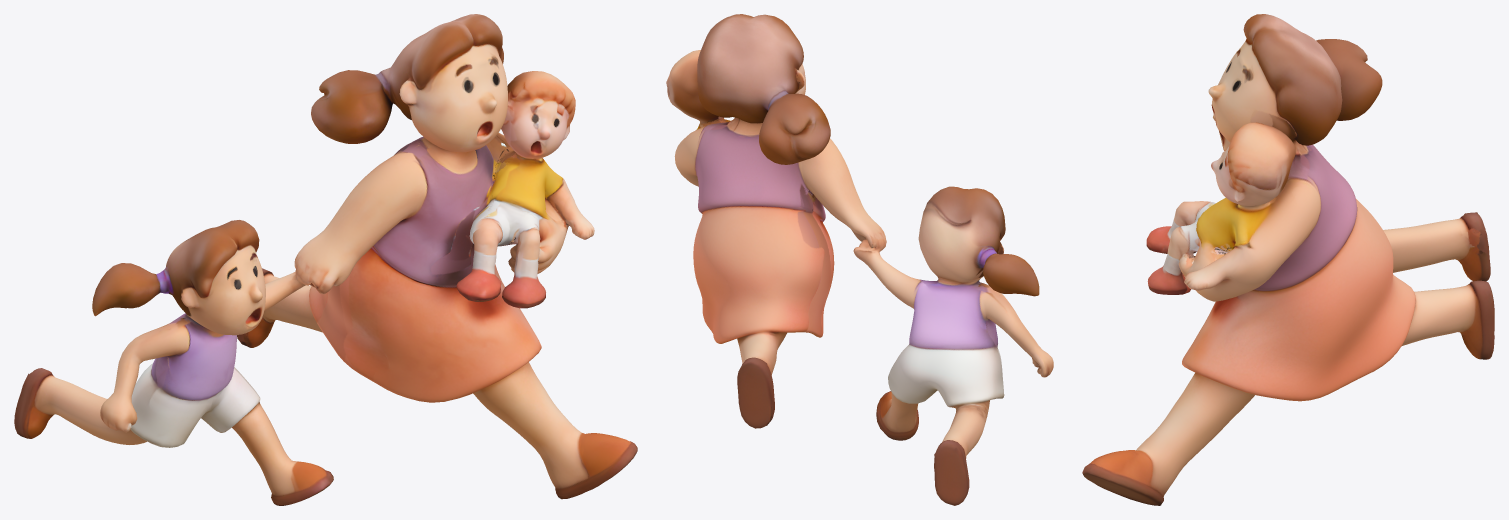
Rendered from PersonasCorriendo.glb.
3 renders of one model, left to right at view 1: azimuth 30°, elevation 25°; view 2: azimuth 150°, elevation 25°; view 3: azimuth 270°, elevation 25°, orthographic. The views are drawn at different scales.
Parts seen in each view (by area): view 1: model; view 2: model; view 3: model.
Boxes of the visible parts, x1,y1,x2,y2 form: model: [14, 14, 637, 505]; model: [666, 14, 1053, 505]; model: [1082, 14, 1494, 505].
Size of the model in its own units: 1.89 by 1.78 by 1.44.
1 material, 1 textured.
